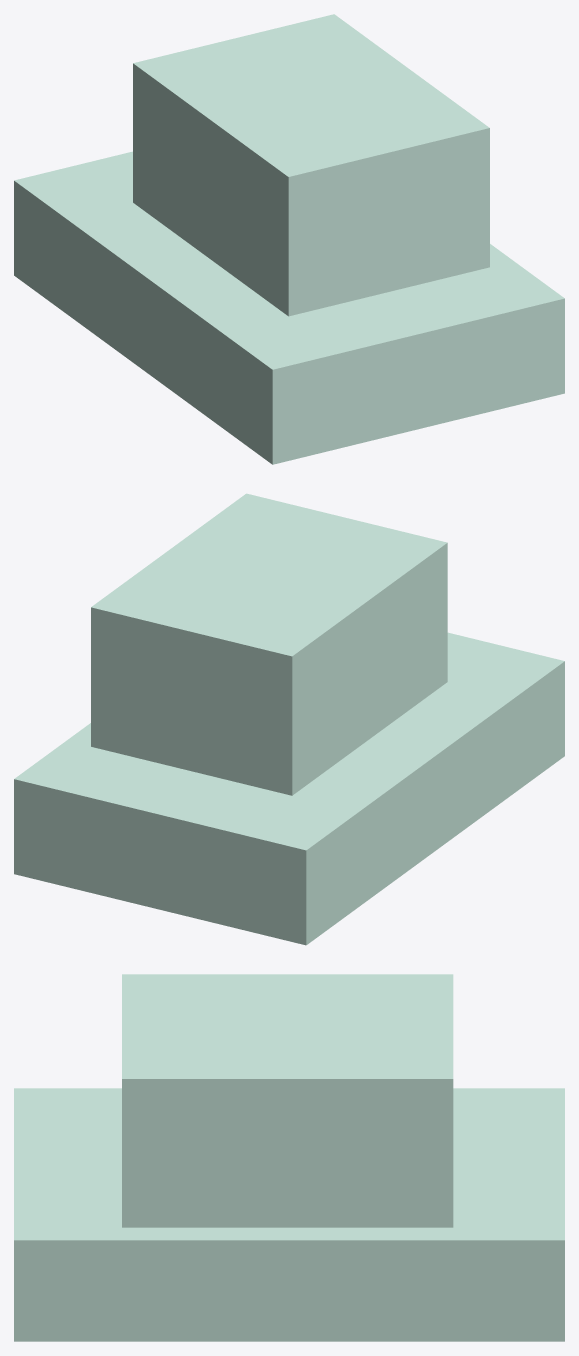
3 views of the same model, one above another, from view 1: azimuth 30°, elevation 25°; view 2: azimuth 150°, elevation 25°; view 3: azimuth 270°, elevation 25° (orthographic). The views are drawn at different scales.
Parts seen in each view (by area): view 1: Renderer Node; view 2: Renderer Node; view 3: Renderer Node.
Boxes of the visible parts, x1,y1,x2,y2 form: Renderer Node: (14,14,564,464); Renderer Node: (14,493,564,945); Renderer Node: (14,974,564,1341).
Bounding box in the file's own units: 0.7546 × 0.5781 × 1.16.
